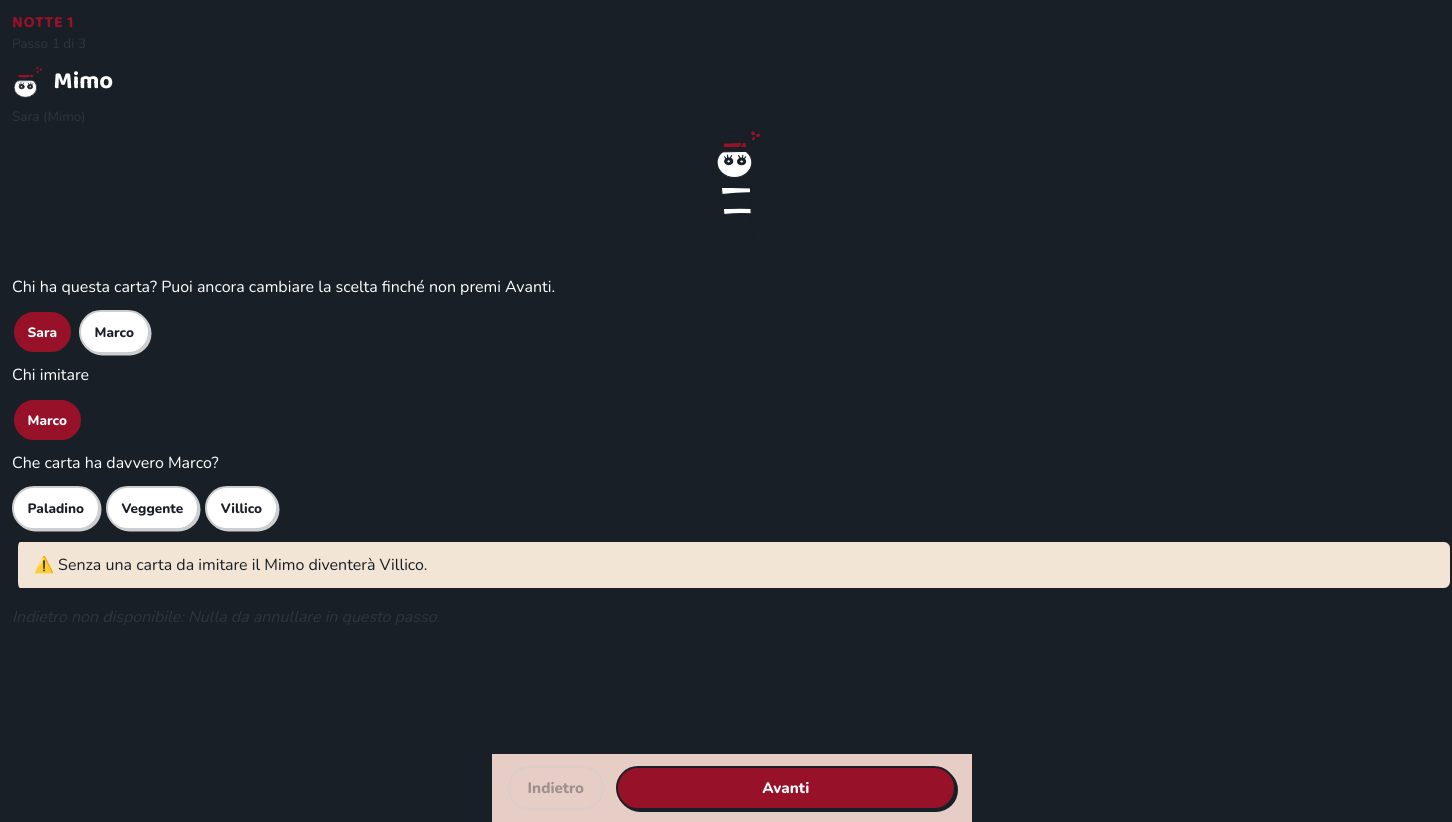
Test: Mimo: Avanti dopo aver scelto la carta del bersaglio non salta il passo successivo
Click the button "Veggente": (152, 508) x1=106 y1=486 x2=199 y2=530
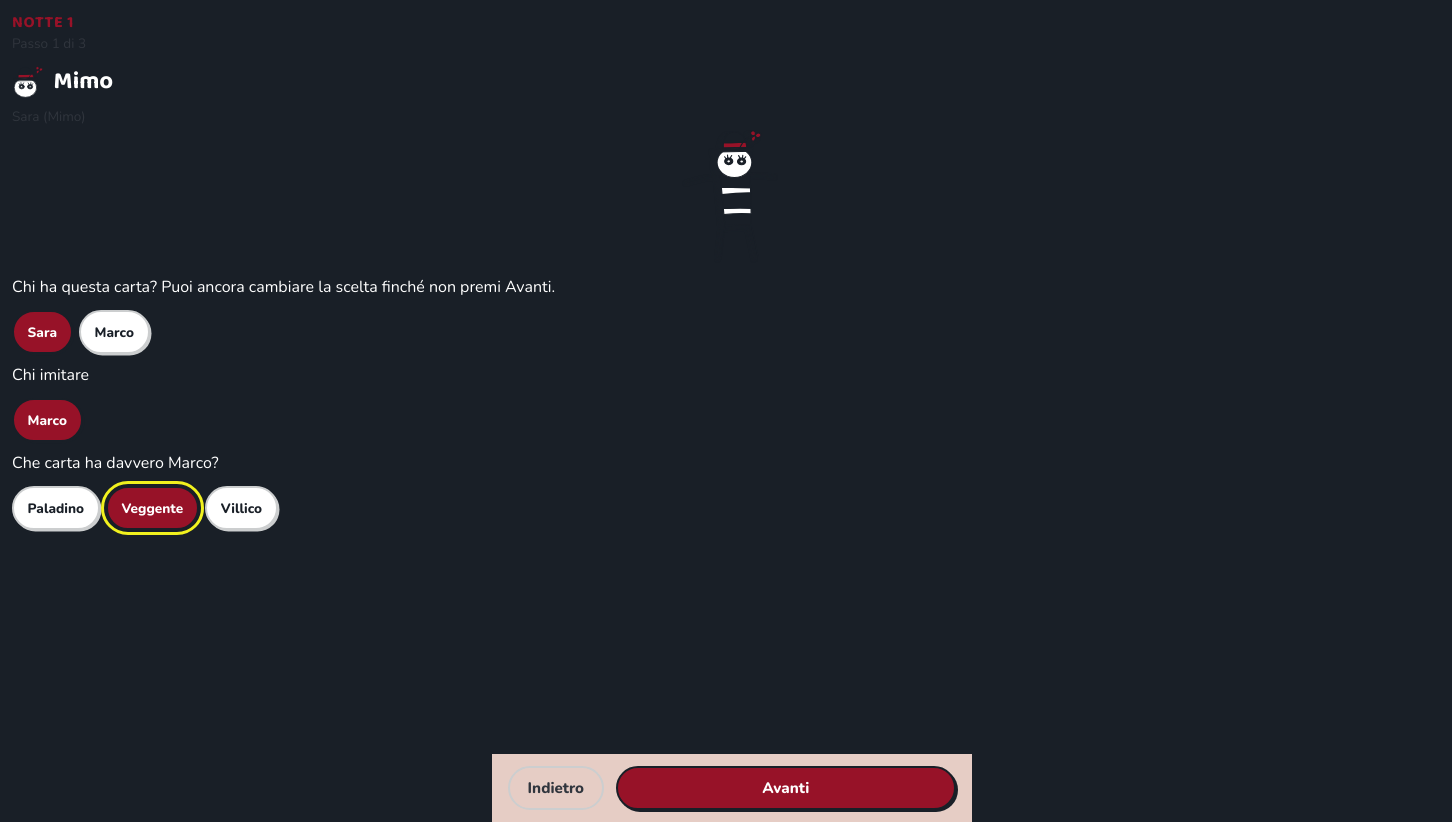
Click the button "Avanti": (786, 788) x1=616 y1=766 x2=956 y2=810
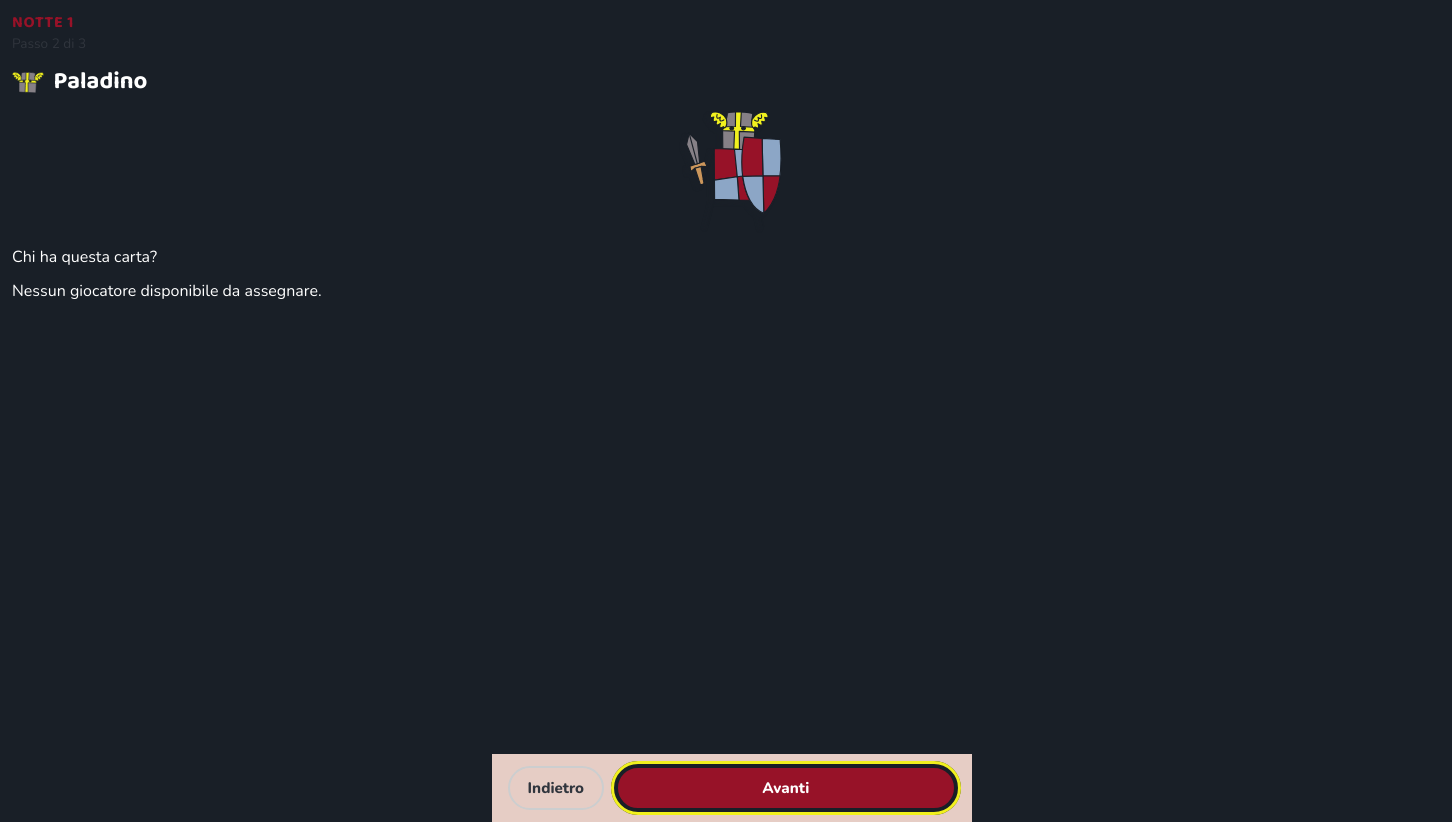
Expected: the heading "Paladino" is shown, x1=12 y1=62 x2=148 y2=101
